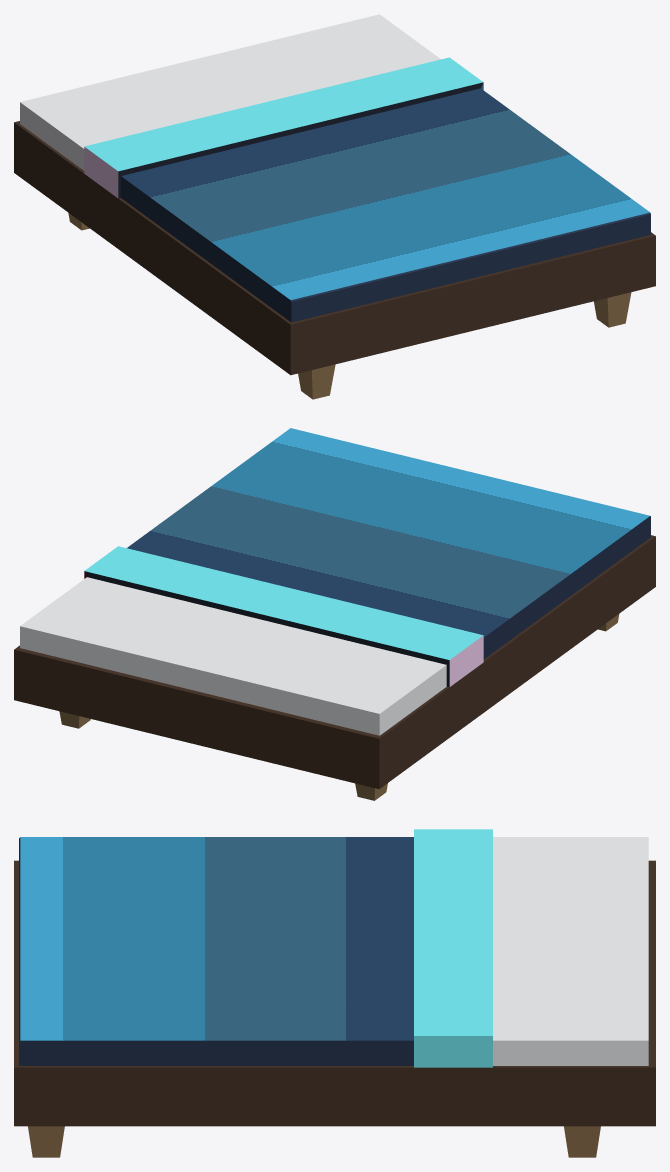
The model's file is Accesories_Bed_Large_B.001.glb.
3 views of the same model, one above another, from view 1: azimuth 30°, elevation 25°; view 2: azimuth 150°, elevation 25°; view 3: azimuth 270°, elevation 25° (orthographic). The views are drawn at different scales.
Visible parts, largest first — view 1: Accesories_Bed_Large_B.001; view 2: Accesories_Bed_Large_B.001; view 3: Accesories_Bed_Large_B.001.
Part boxes in pixels (<box>): Accesories_Bed_Large_B.001: <box>14,14,655,399</box>; Accesories_Bed_Large_B.001: <box>14,428,655,800</box>; Accesories_Bed_Large_B.001: <box>14,829,655,1157</box>.
Bounding box in the file's own units: 1.6 × 0.4852 × 2.1.
Materials: 1 (1 with a texture image).
